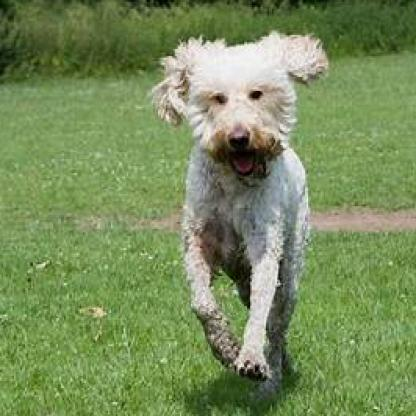dog: (153, 33, 330, 383)
